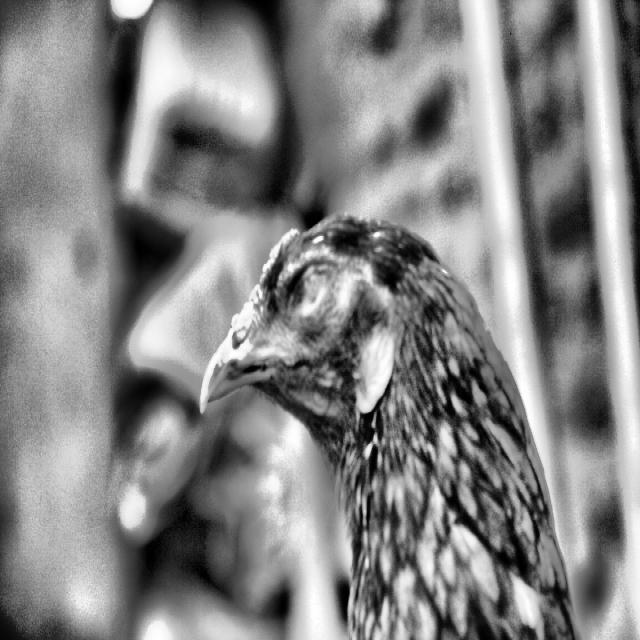Coryza: (195, 152, 489, 526)
